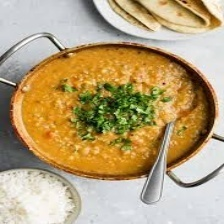roti: (95, 0, 223, 34)
